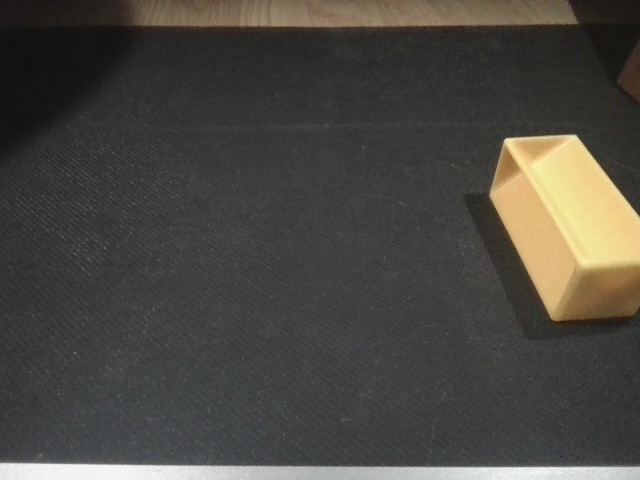YellowSample: (485, 130, 640, 321)
